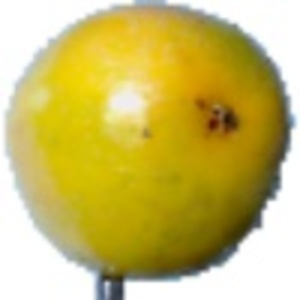maracujá: (4, 1, 298, 300)
